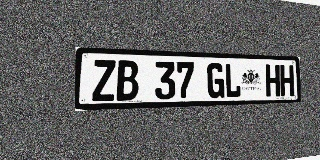3: (155, 61, 175, 100)
7: (175, 62, 194, 99)
B: (116, 60, 138, 101)
G: (207, 63, 224, 98)
H: (265, 64, 280, 97), (280, 65, 294, 96)
L: (225, 63, 241, 98)
Z: (92, 60, 115, 101)
